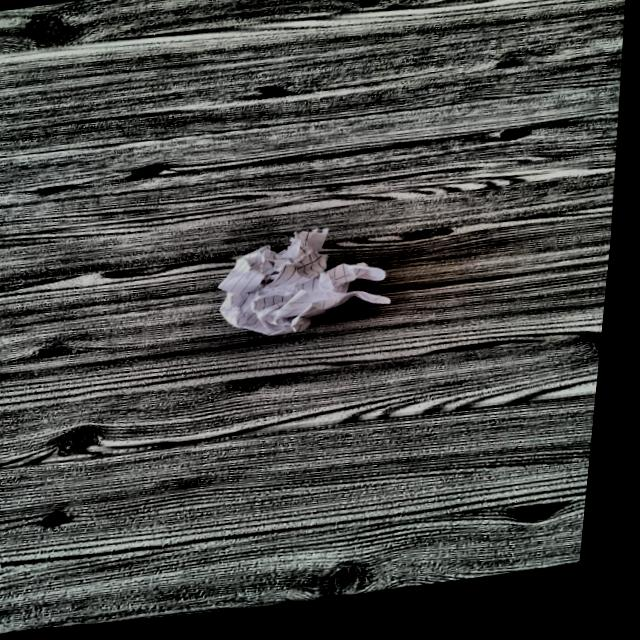Paper: (219, 232, 401, 347)
